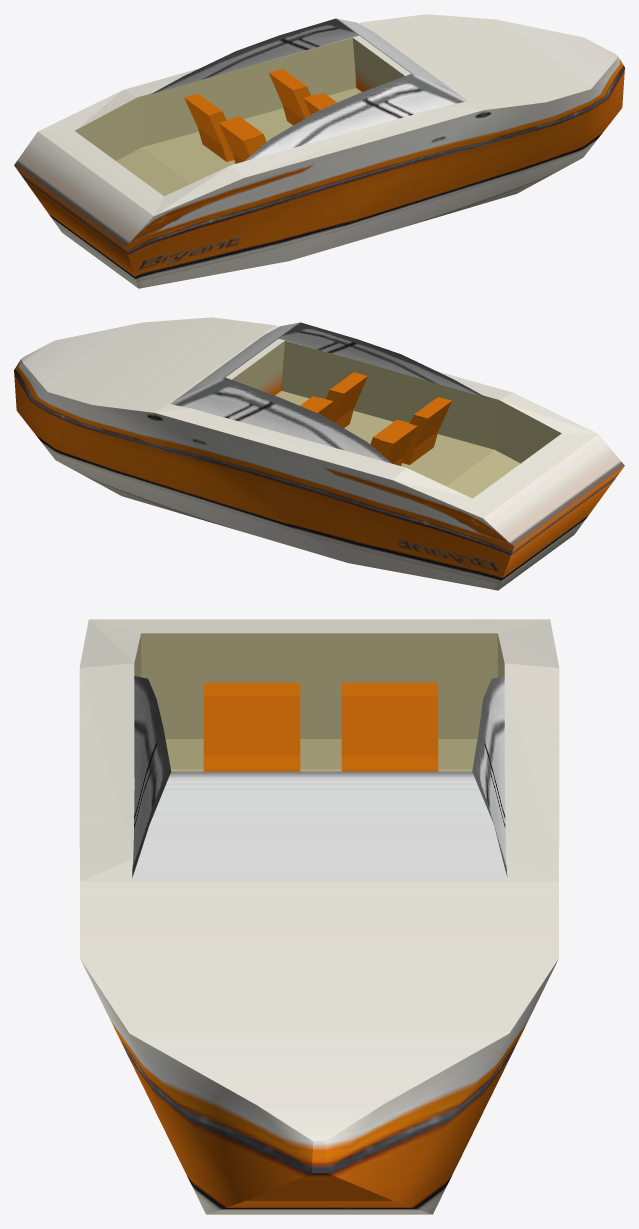
File: lancha.DAE
3 views of the same model, one above another, from view 1: azimuth 30°, elevation 25°; view 2: azimuth 150°, elevation 25°; view 3: azimuth 270°, elevation 25° (orthographic). The views are drawn at different scales.
Parts seen in each view (by area): view 1: lanchaAmarilla; view 2: lanchaAmarilla; view 3: lanchaAmarilla.
Part boxes in pixels (<box>): lanchaAmarilla: <box>14,14,624,288</box>; lanchaAmarilla: <box>14,317,624,590</box>; lanchaAmarilla: <box>79,619,559,1214</box>.
Size of the model in its own units: 8.16 by 2.17 by 3.07.
